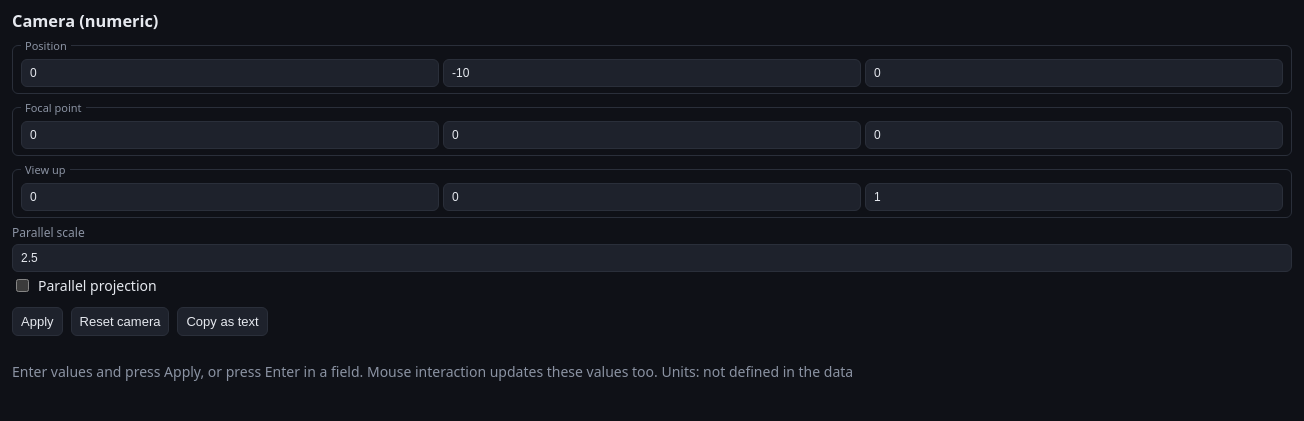
CameraSection (R-03) › explains invalid input instead of applying it
Replace the text in the number field named "View up Z" with "0": (1074, 197) [865, 183, 1283, 211]
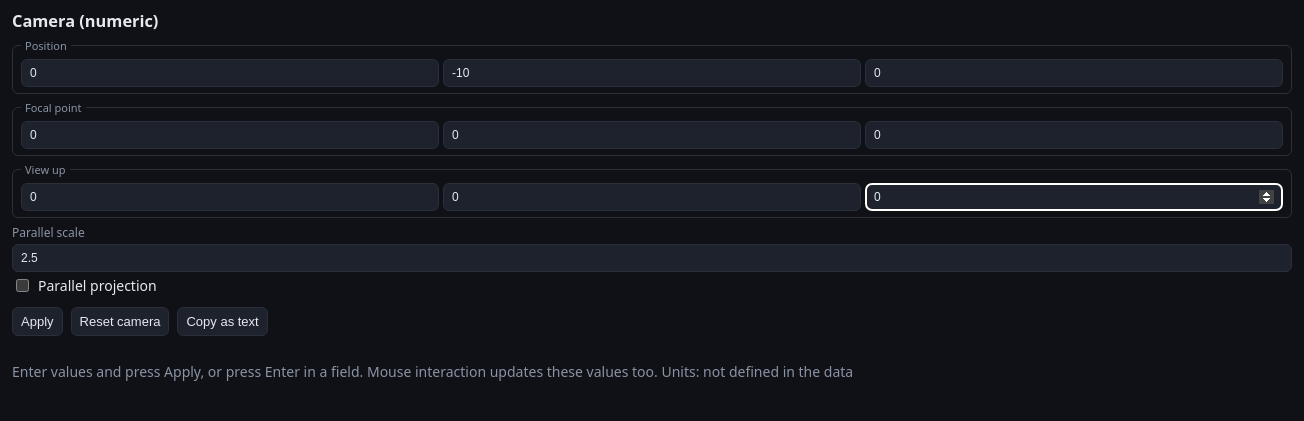
Click the button "Apply": (37, 322) [12, 307, 62, 336]
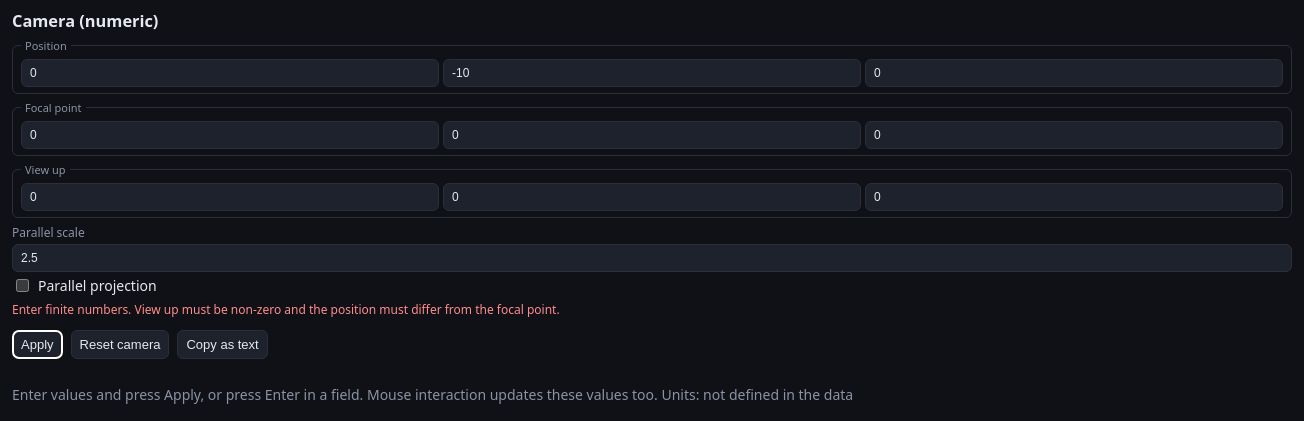
Check: the message shows "Enter finite numbers. View up must be non-zero and the position must differ from the focal point.", box [12, 301, 560, 318]
